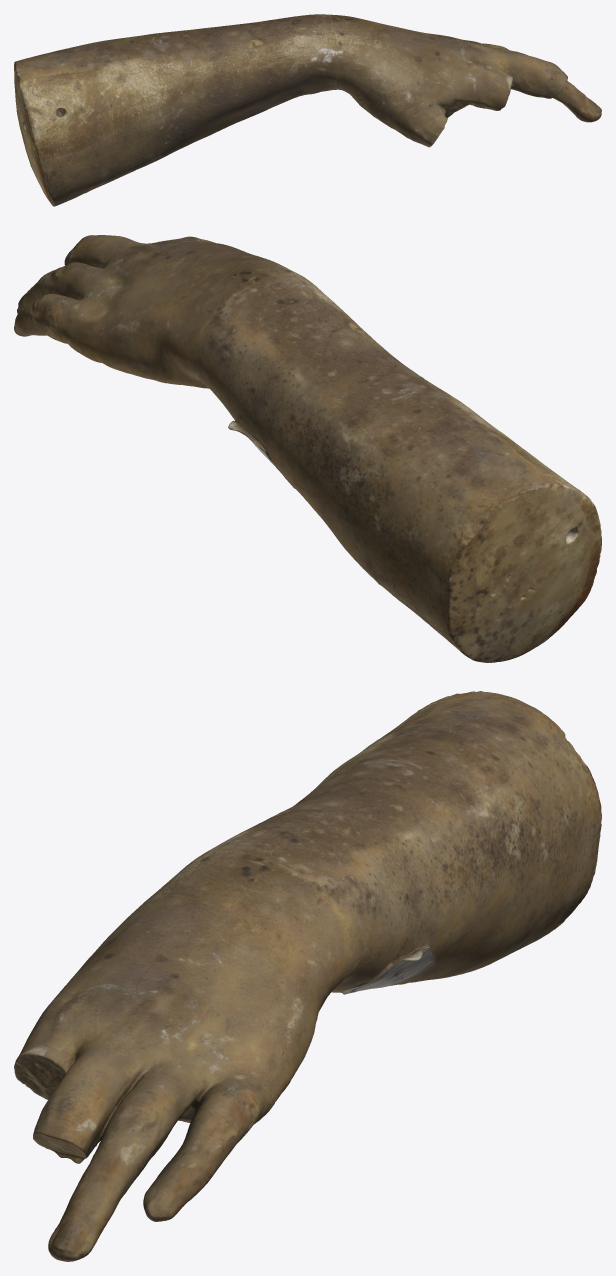
Rendered from life-cast-of-left-forearm-and-hand-150k-2048-medium-100k-2048_draco.glb.
The picture shows the model from 3 angles, top to bottom: view 1: azimuth 30°, elevation 25°; view 2: azimuth 150°, elevation 25°; view 3: azimuth 270°, elevation 25°; orthographic projection. The views are drawn at different scales.
Size of the model in its own units: 11.97 by 3.89 by 6.77.
1 material, 1 textured.
